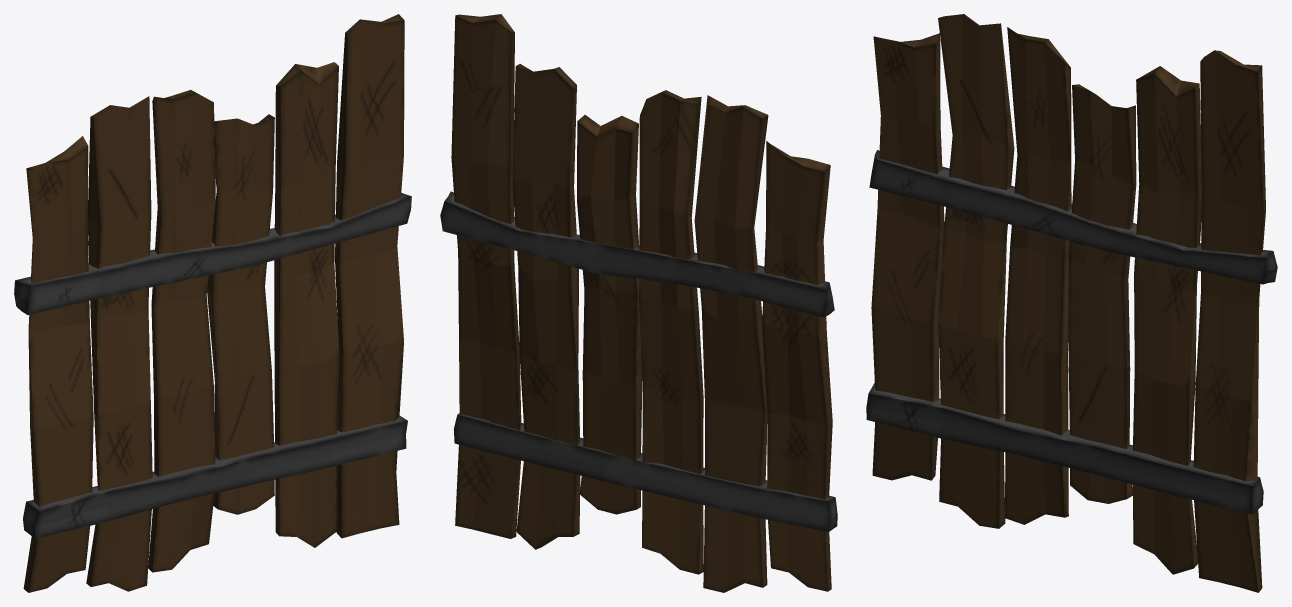
Rendered from AlleyFence_01.fbx.
3 renders of one model, left to right at view 1: azimuth 30°, elevation 25°; view 2: azimuth 150°, elevation 25°; view 3: azimuth 330°, elevation 25°, orthographic. The views are drawn at different scales.
Visible parts, largest first — view 1: AlleyFence_01; view 2: AlleyFence_01; view 3: AlleyFence_01.
Part boxes in pixels (x1,y1,x2,y2): AlleyFence_01: [14, 14, 411, 592]; AlleyFence_01: [440, 14, 837, 592]; AlleyFence_01: [866, 14, 1277, 592].
Bounding box in the file's own units: 121 × 156 × 10.02.
